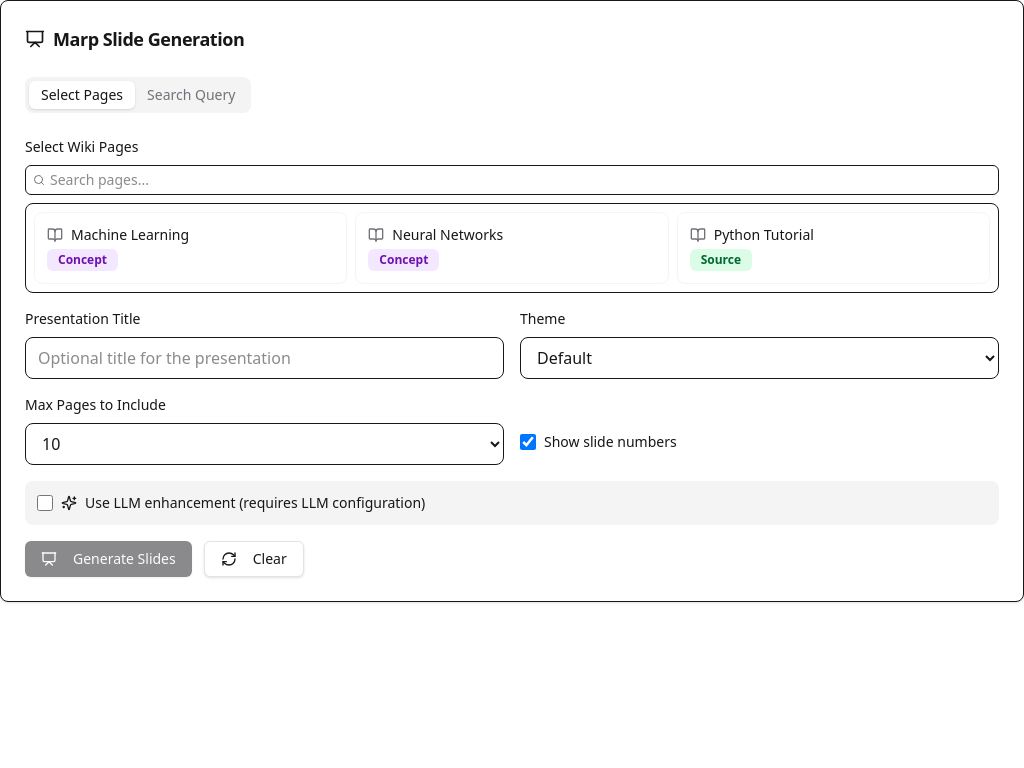
Test case: MarpSlides › should clear form when clear button clicked
expect the text "Machine Learning" is shown: met, box 71,225 -> 189,245
Click the button "Machine Learning Concept". click: [130, 234]
box: 34,212 -> 347,284
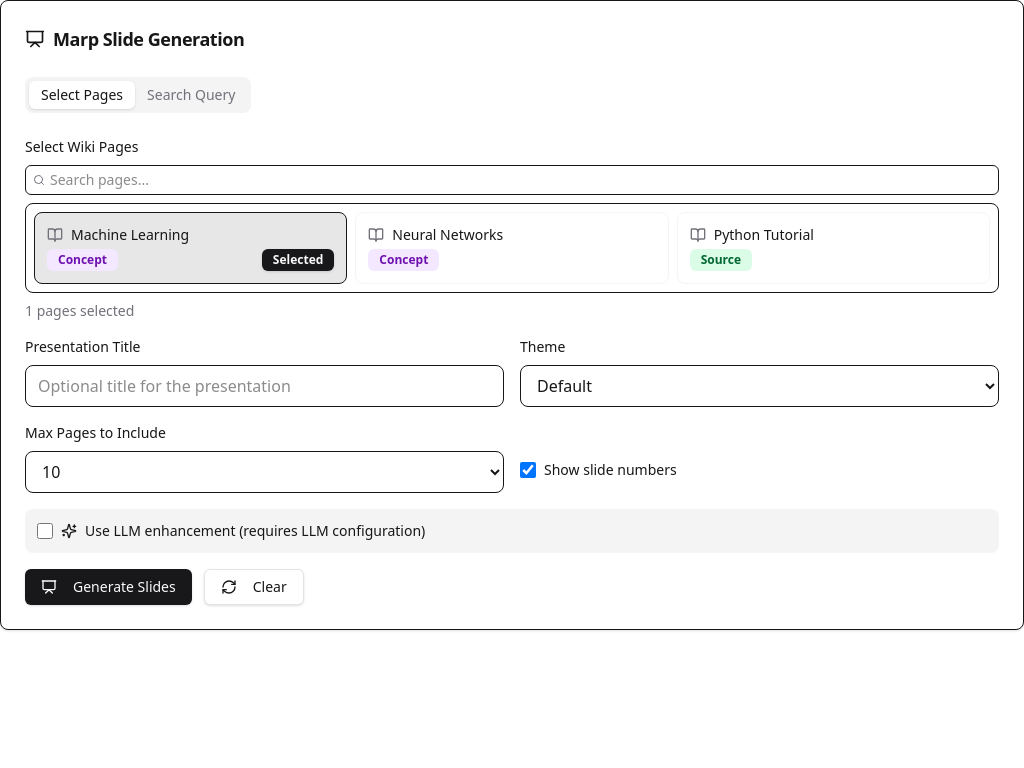
Type "My Presentation" into the field with placeholder "Optional title for the presentation". click: [264, 386]
box: 25,365 -> 504,407
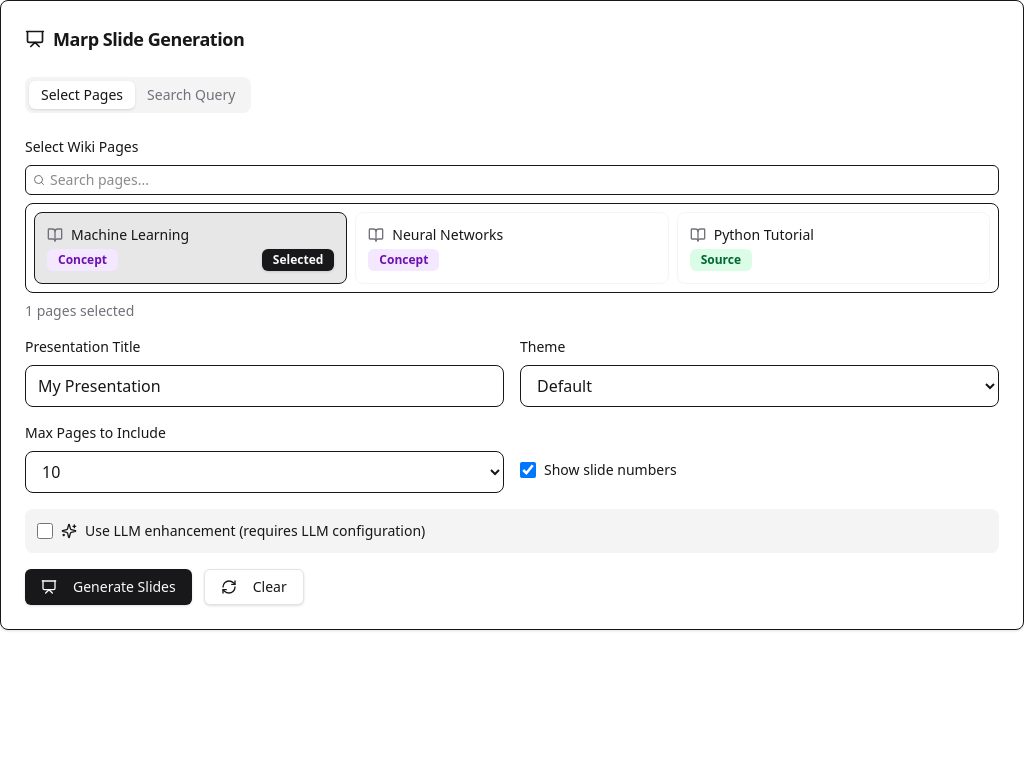
Click the button "Clear". click: [254, 587]
box: 204,569 -> 304,605
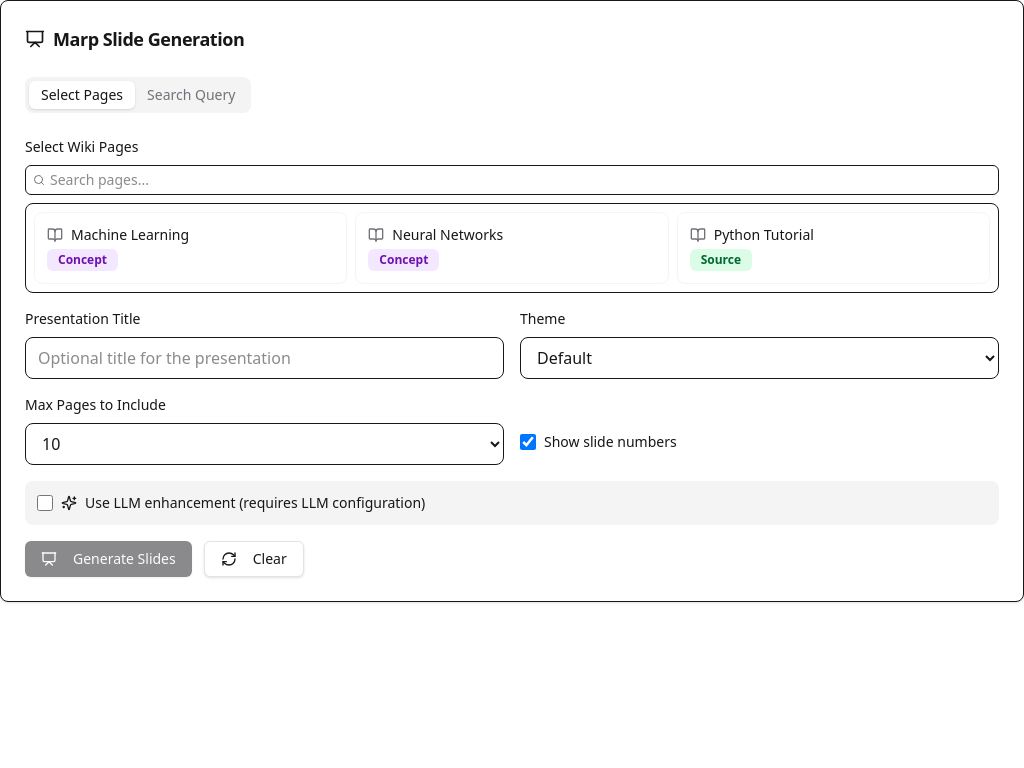
expect the field with placeholder "Optional title for the presentation" is empty: met, box 25,337 -> 504,379
